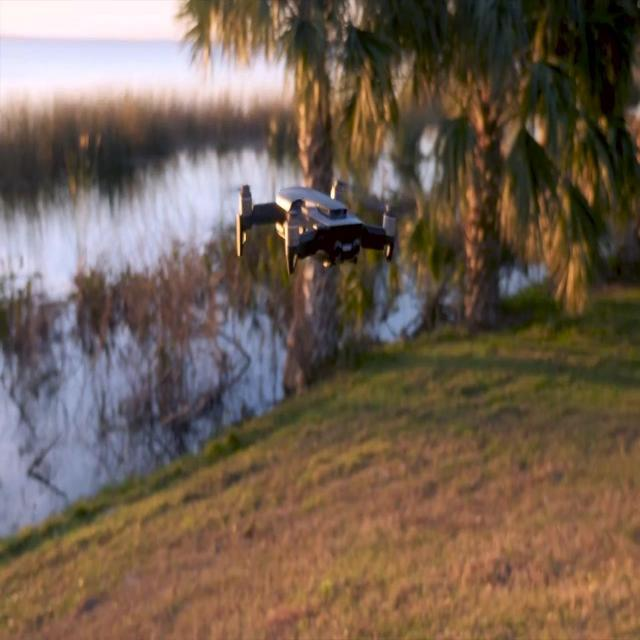UAV: (232, 178, 396, 276)
